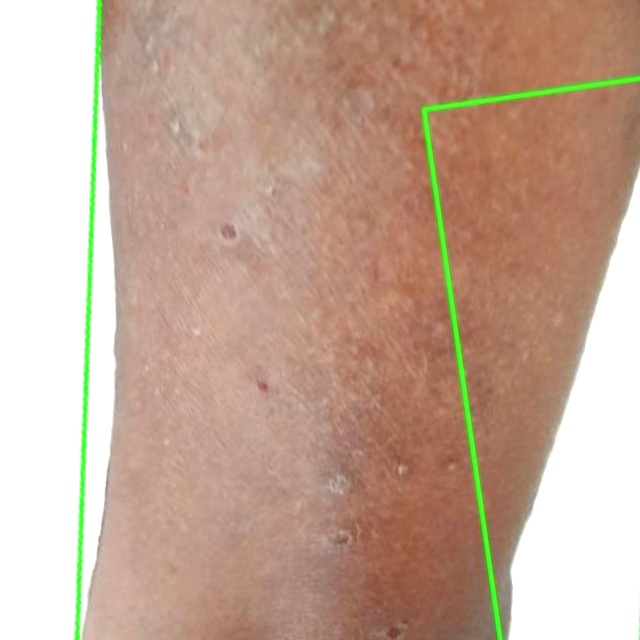Contact Dermatitis: (80, 0, 639, 639), (425, 78, 639, 639)
